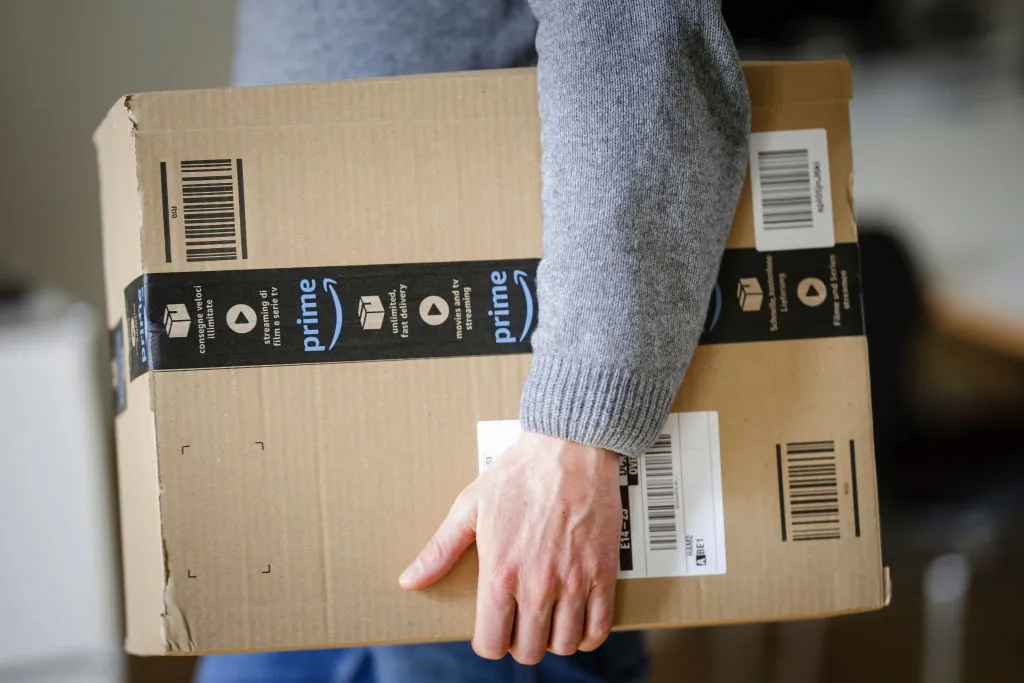package: (84, 54, 892, 664)
